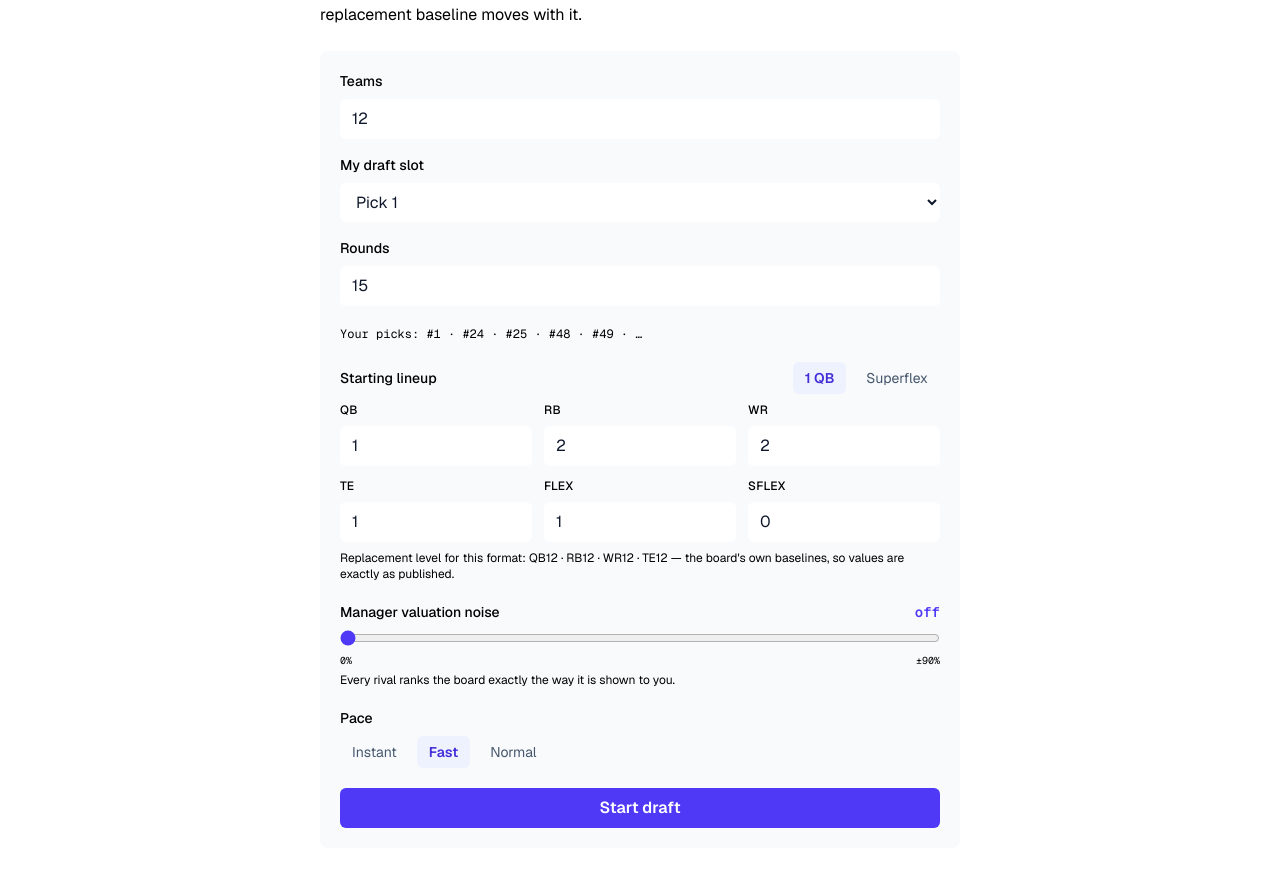
it: SnakeDraftClient › puts a drafted player on the user's roster
(page scrolled)
Click the button "Start draft": (640, 808) [340, 788, 940, 828]
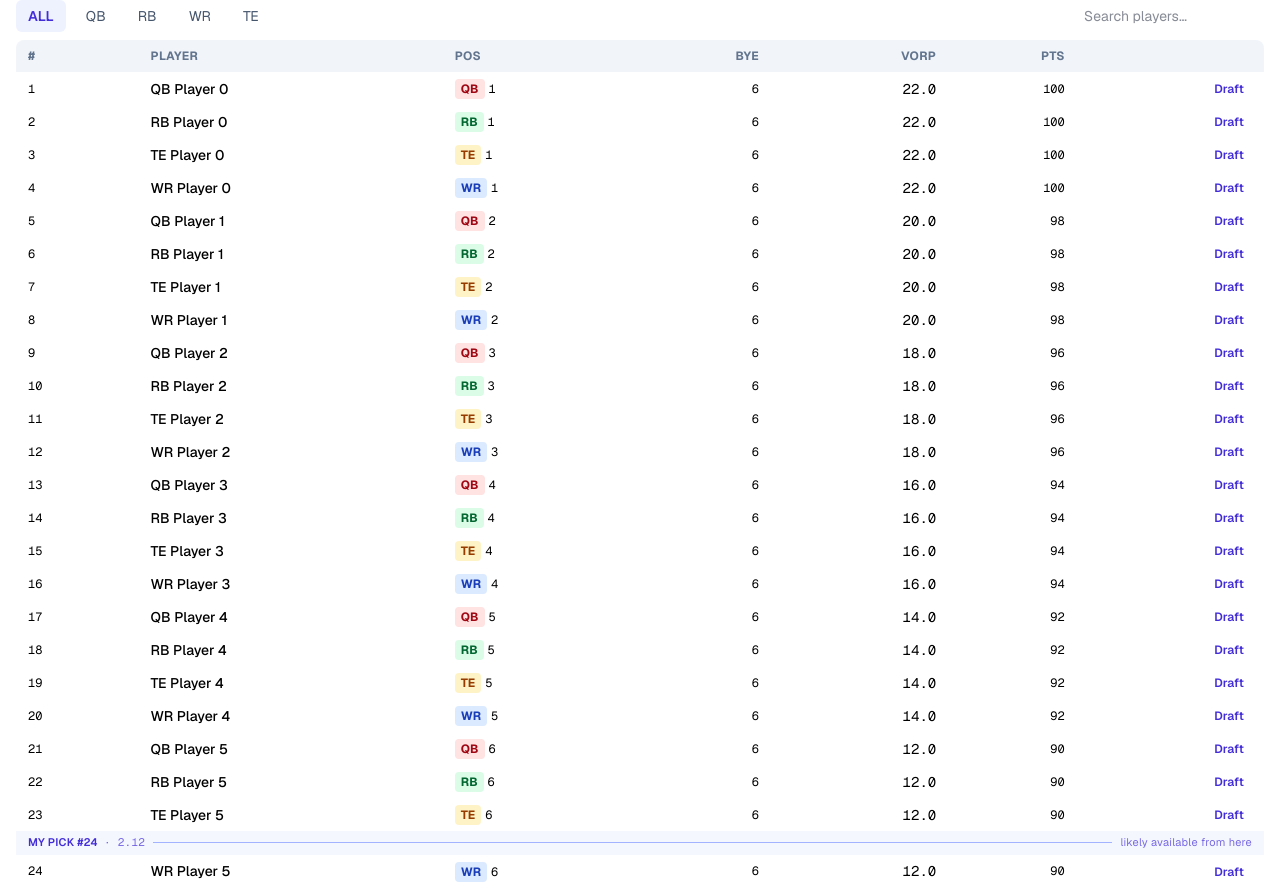
Click the 1st button "Draft": (1229, 89) [1206, 79, 1252, 99]
(page scrolled)
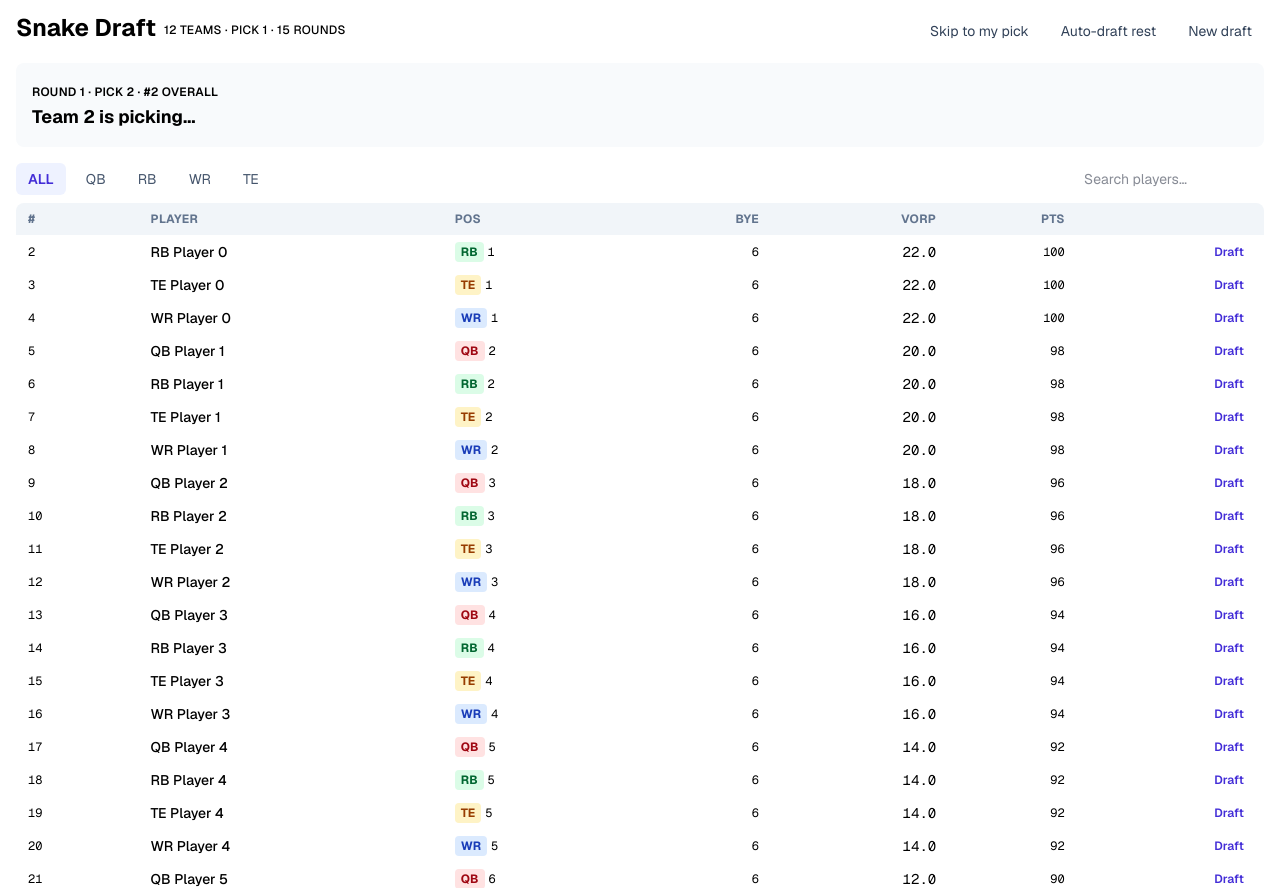
Expected: the text "Team 2 is picking…" is shown, [32, 103, 218, 131]
